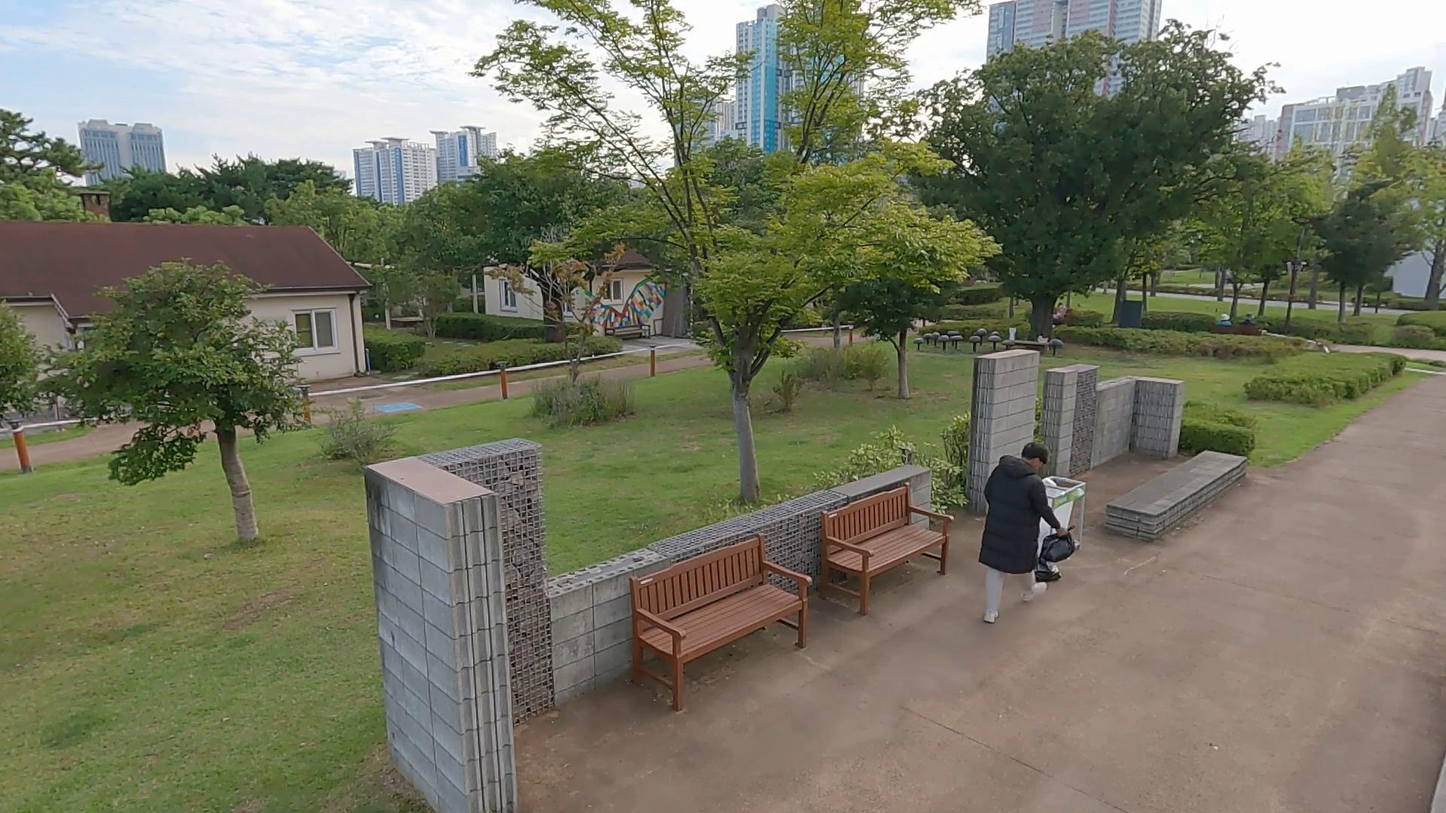person: (976, 432, 1061, 623)
trash: (1039, 523, 1078, 562), (1032, 555, 1065, 587)
